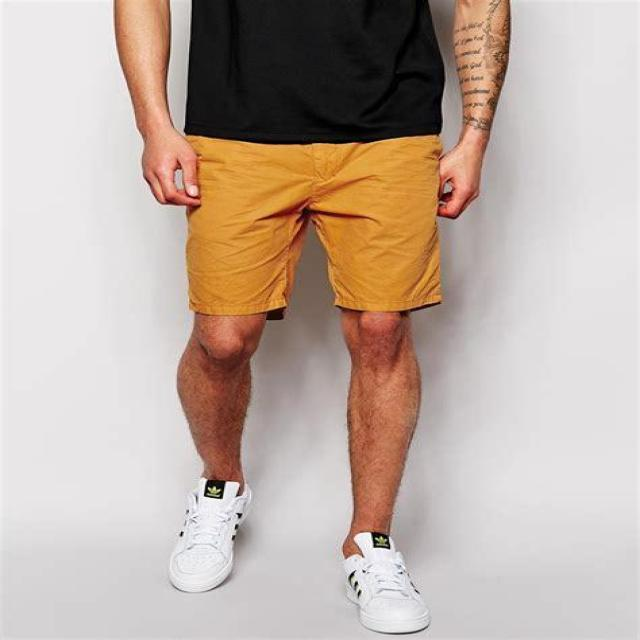short: (180, 133, 442, 317)
